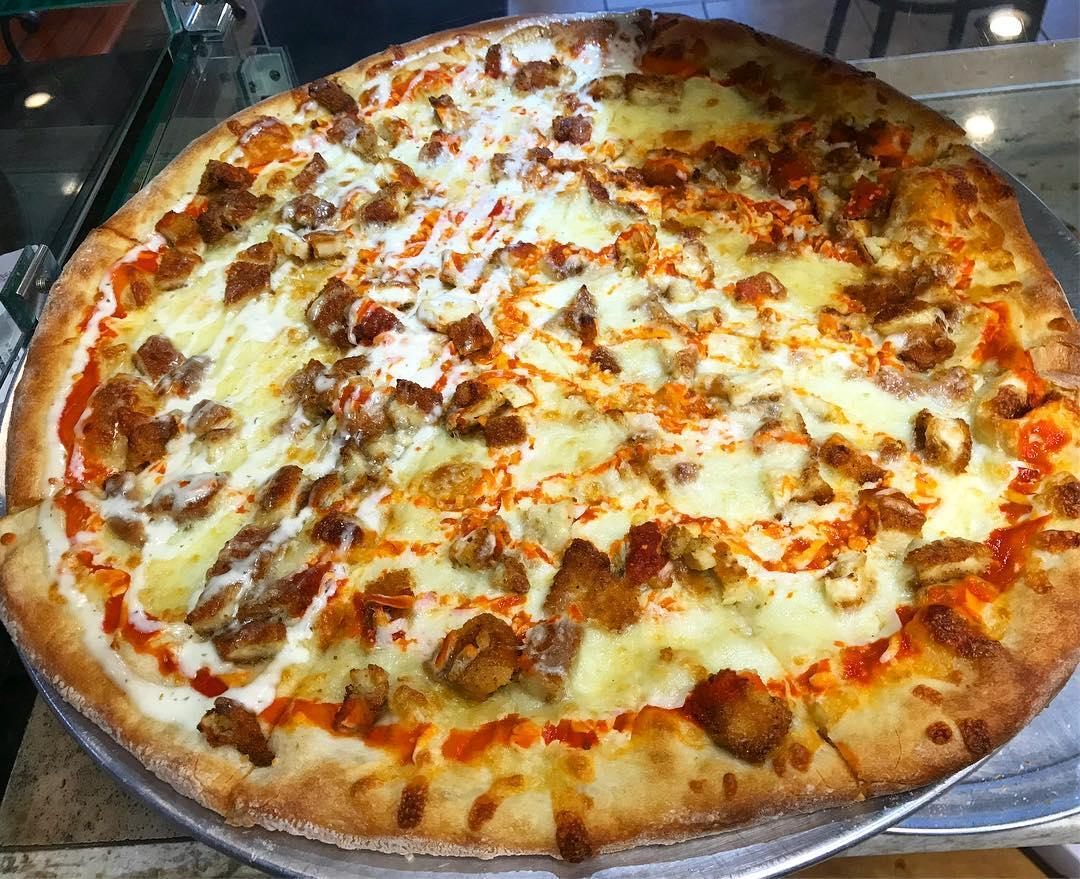Cheese: (537, 317, 792, 493), (427, 104, 589, 235), (172, 301, 292, 430)
Ham: (644, 121, 889, 230), (221, 551, 341, 676), (545, 509, 654, 614), (201, 168, 290, 296), (680, 667, 791, 758), (428, 601, 525, 700), (844, 261, 954, 336), (441, 354, 525, 447), (308, 281, 396, 356), (194, 701, 270, 767), (267, 466, 360, 519), (287, 356, 364, 419), (121, 388, 181, 463), (914, 406, 980, 474), (844, 487, 922, 535), (337, 661, 389, 731), (372, 369, 440, 422), (812, 442, 896, 484), (91, 377, 156, 430), (361, 167, 422, 219), (221, 242, 283, 285), (357, 574, 411, 622), (512, 51, 569, 96), (894, 336, 963, 369), (441, 319, 495, 356), (291, 151, 334, 194), (311, 82, 362, 118), (132, 337, 179, 372), (729, 274, 784, 301), (276, 194, 335, 219), (482, 44, 507, 73)
Pizza: (18, 14, 1080, 843)
